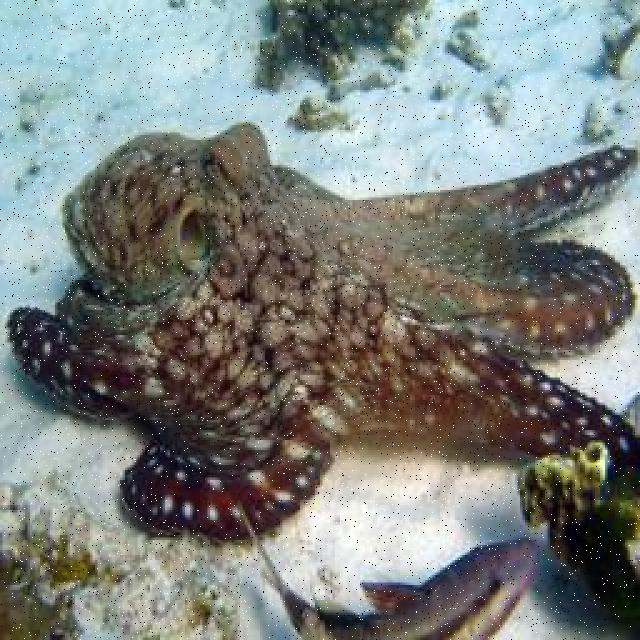fish: (239, 505, 542, 637)
reefs: (11, 121, 638, 543)
sea-floor: (517, 398, 638, 628), (254, 1, 431, 92), (285, 94, 361, 131), (445, 12, 492, 70), (600, 18, 638, 82), (330, 66, 394, 102)
